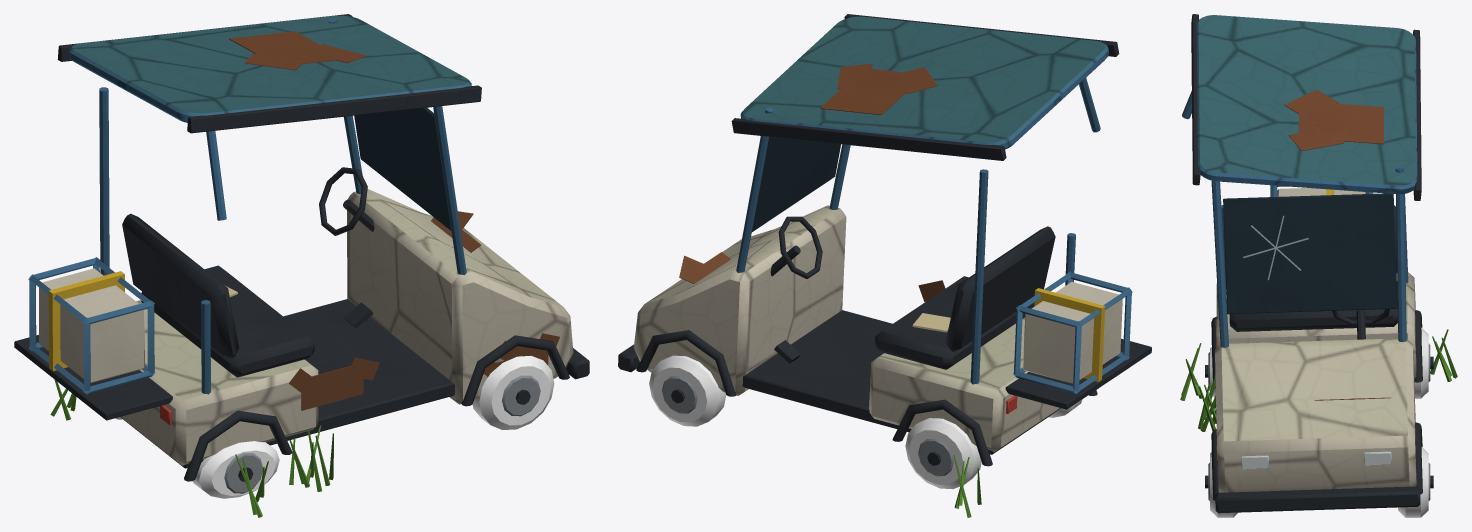
The model's file is golf_cart_wreck.glb.
3 renders of one model, left to right at view 1: azimuth 30°, elevation 25°; view 2: azimuth 150°, elevation 25°; view 3: azimuth 270°, elevation 25°, orthographic. The views are drawn at different scales.
Parts seen in each view (by area): view 1: golf_cart_wreck; view 2: golf_cart_wreck; view 3: golf_cart_wreck.
Part boxes in pixels (bbox=[...]): golf_cart_wreck: bbox=[14, 14, 589, 517]; golf_cart_wreck: bbox=[618, 14, 1151, 517]; golf_cart_wreck: bbox=[1180, 14, 1457, 517].
Size of the model in its own units: 2.83 by 2.33 by 1.63.
18 materials, 18 textured.
